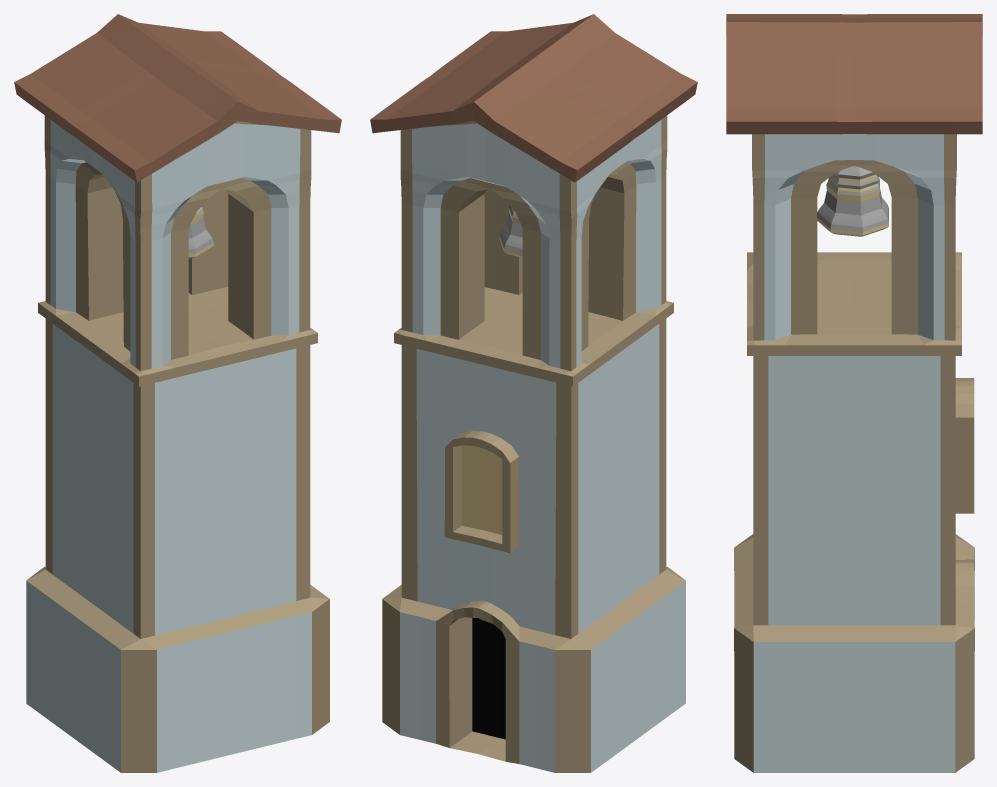
Rendered from belfry.fbx.
The picture shows the model from 3 angles, left to right: view 1: azimuth 30°, elevation 25°; view 2: azimuth 150°, elevation 25°; view 3: azimuth 270°, elevation 25°; orthographic projection. The views are drawn at different scales.
Parts seen in each view (by area): view 1: belfry, belfry.001, bell; view 2: belfry, belfry.001, bell; view 3: belfry, belfry.001, bell.
Part boxes in pixels (x1,y1,x2,y2): belfry: (26, 115, 329, 772); belfry.001: (14, 14, 341, 182); bell: (188, 206, 213, 258); belfry: (382, 115, 685, 772); belfry.001: (370, 14, 697, 182); bell: (499, 206, 522, 257); belfry: (734, 134, 974, 772); belfry.001: (726, 14, 982, 134); bell: (817, 165, 888, 236).
Bounding box in the file's own units: 300 × 900 × 300.
